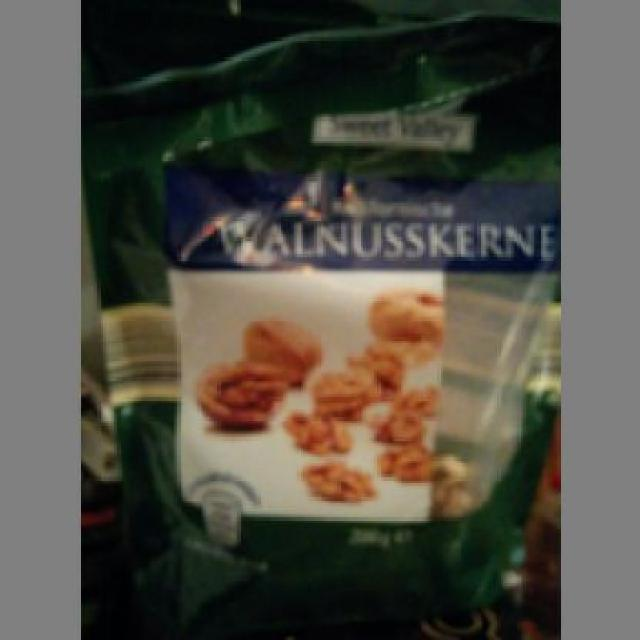Nuts: (83, 12, 560, 638)
